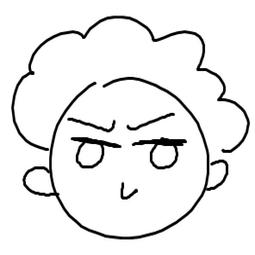ear: (19, 164, 58, 201), (205, 160, 234, 194)
empty_eye: (147, 142, 188, 172), (70, 140, 106, 171)
frowning_eyebrow: (126, 112, 176, 132), (67, 114, 117, 133)
nose: (113, 180, 142, 203)
